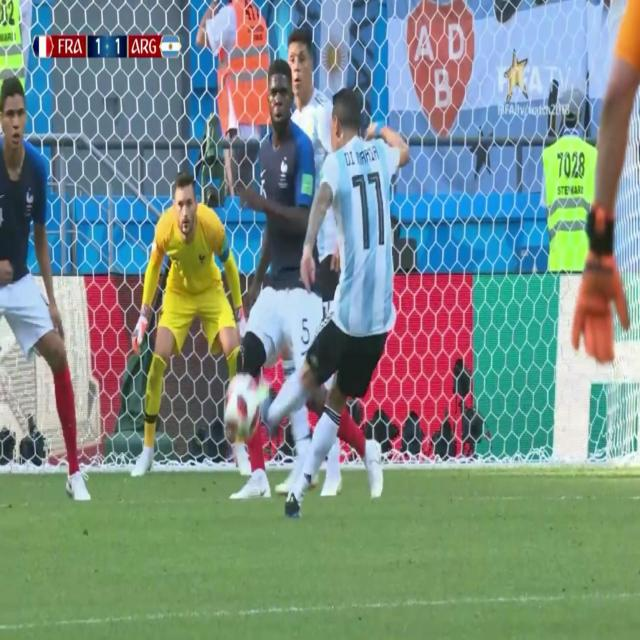ball: (222, 368, 261, 443)
player: (280, 51, 407, 526), (124, 155, 262, 471), (240, 58, 326, 510), (0, 61, 85, 511)
